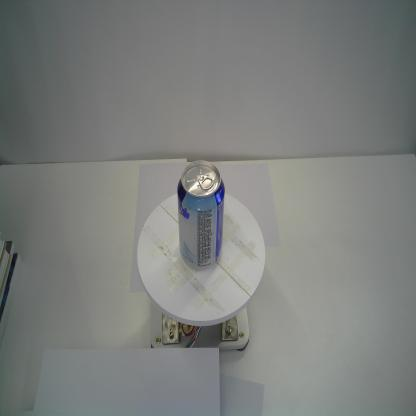Alcohol: (177, 158, 226, 274)
